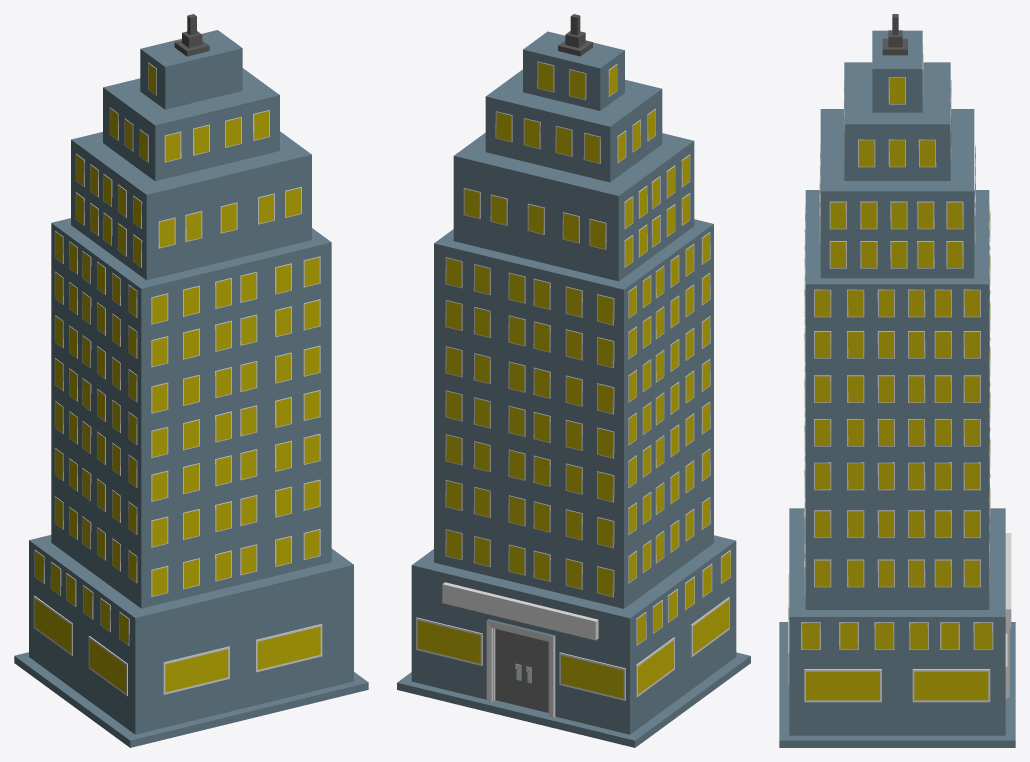
The model's file is Building 7 A3.fbx.
3 renders of one model, left to right at view 1: azimuth 30°, elevation 25°; view 2: azimuth 150°, elevation 25°; view 3: azimuth 270°, elevation 25°, orthographic.
Parts seen in each view (by area): view 1: Cube; view 2: Cube; view 3: Cube.
Part boxes in pixels (x1,y1,x2,y2): Cube: (14, 14, 368, 747); Cube: (397, 14, 750, 747); Cube: (779, 14, 1015, 747).
Size of the model in its own units: 651 by 1725 by 549.
